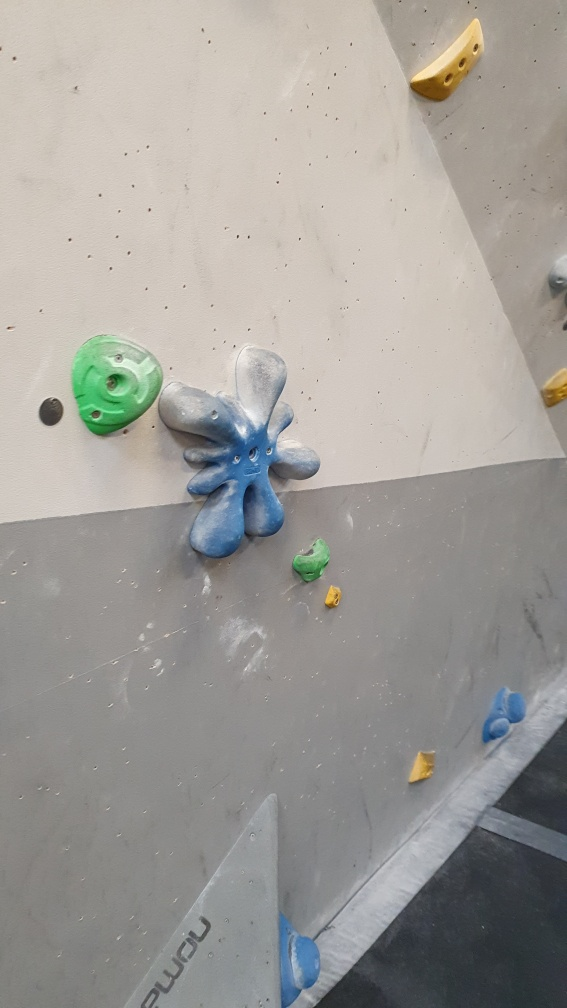Hand Start: (30, 395, 70, 430)
Jug: (62, 328, 166, 438), (290, 537, 336, 585)
Octopus Pinch: (162, 341, 325, 564)
Sloper: (276, 912, 321, 1005)
